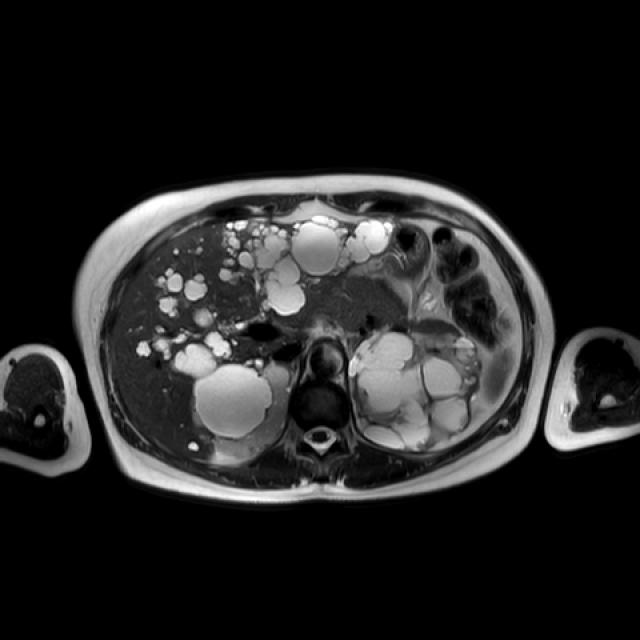sag: (193, 363, 291, 461)
sol: (352, 319, 481, 451)
